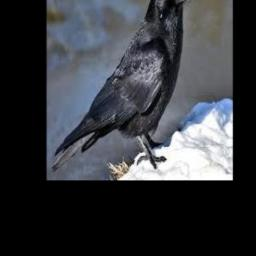Crow: (51, 0, 196, 173)
